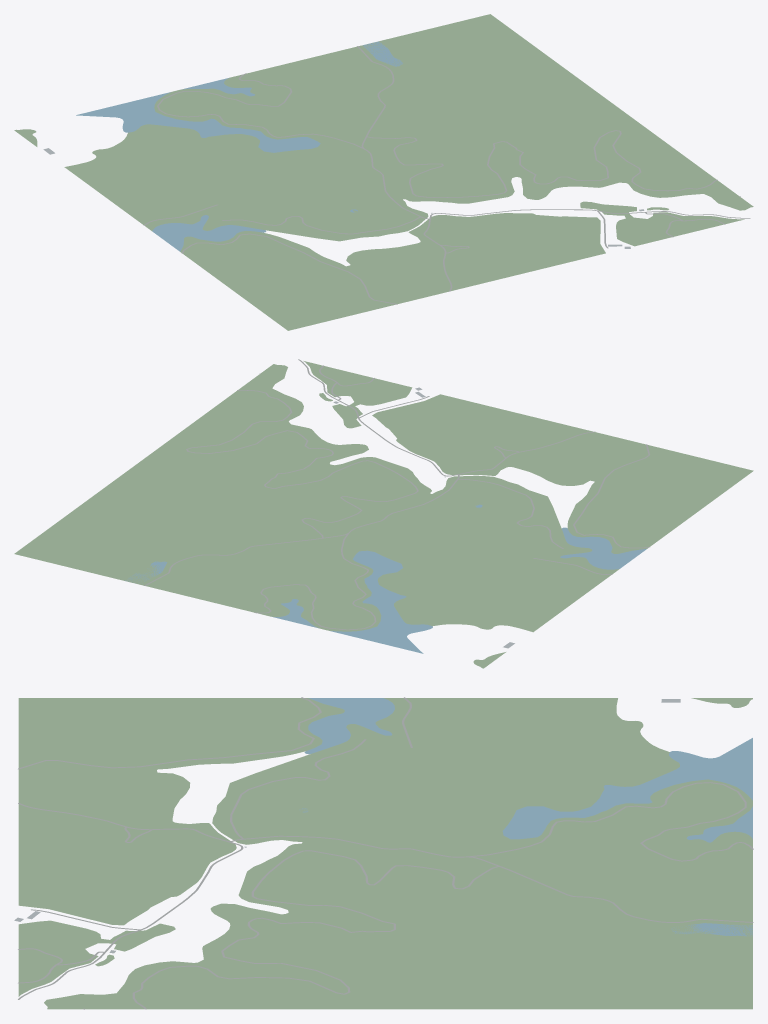
Rendered from -15_33-known-fine.glb.
3 renders of one model, top to bottom at view 1: azimuth 30°, elevation 25°; view 2: azimuth 150°, elevation 25°; view 3: azimuth 270°, elevation 25°, orthographic. The views are drawn at different scales.
Bounding box in the file's own units: 1001 × 0.15 × 1003.
